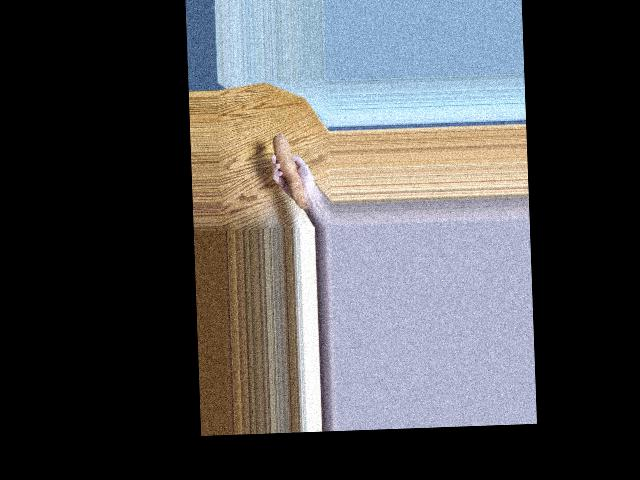sweet_potato: (268, 122, 303, 201)
